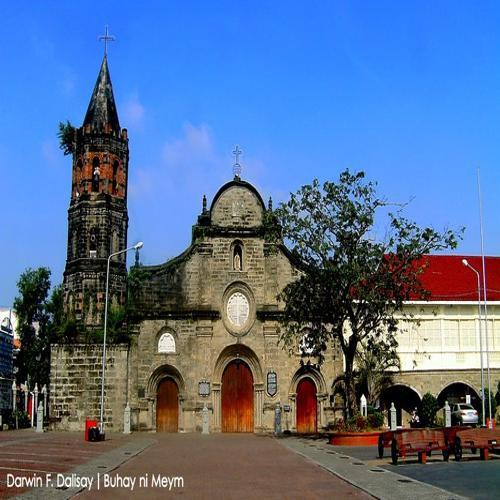Barasoain Church: (44, 17, 347, 440)
